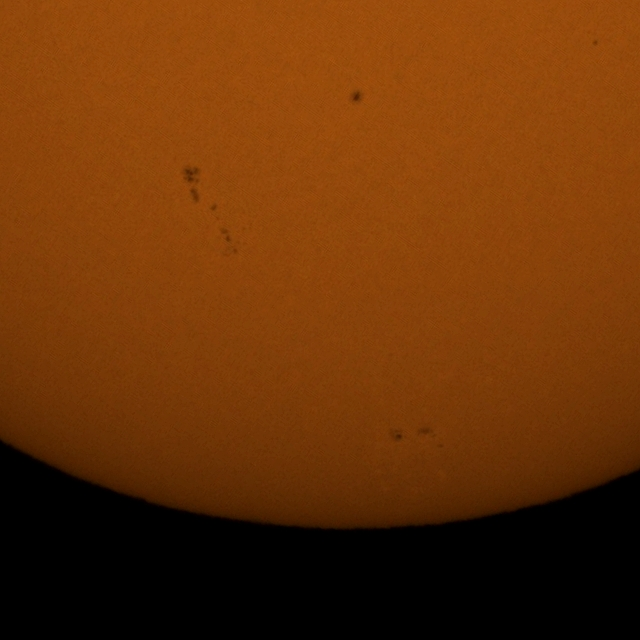sunspot: (182, 164, 202, 201), (218, 227, 238, 257), (348, 89, 366, 109), (209, 202, 221, 222), (392, 429, 406, 443), (591, 39, 599, 47)
